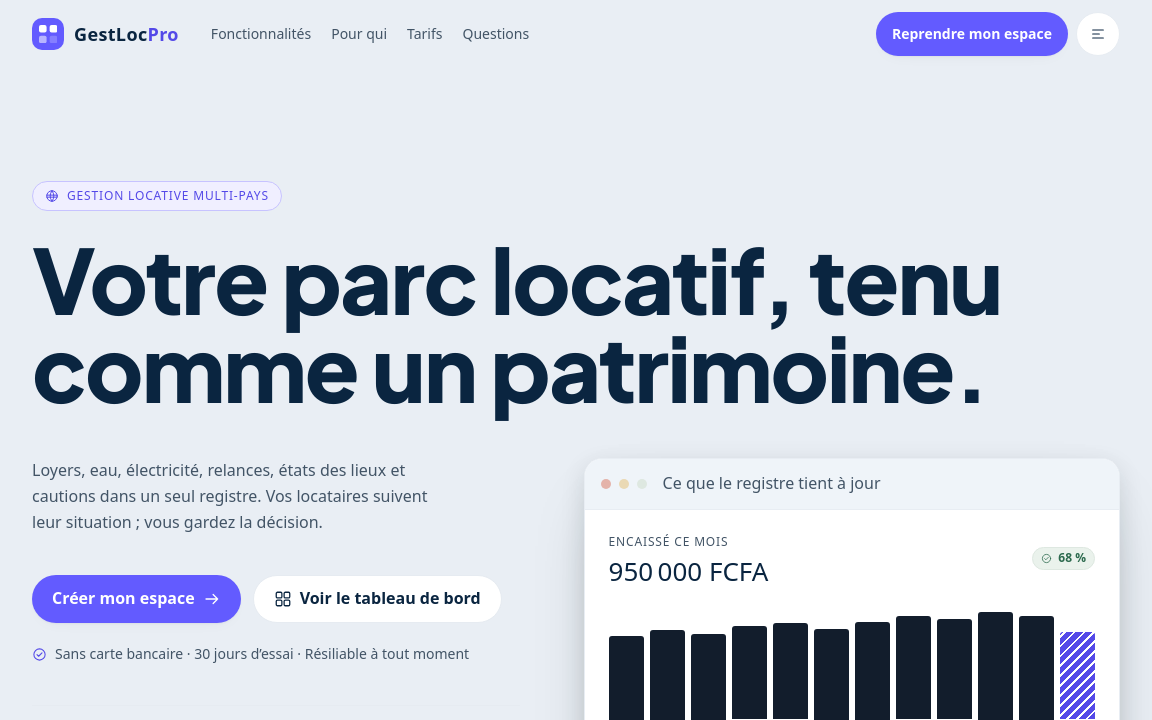
menu mobile de la vitrine › rend le focus au bouton d’ouverture à la fermeture
The image size is (1152, 720).
Click the button named "Ouvrir le menu" at (1098, 34), box [1076,12,1120,56]
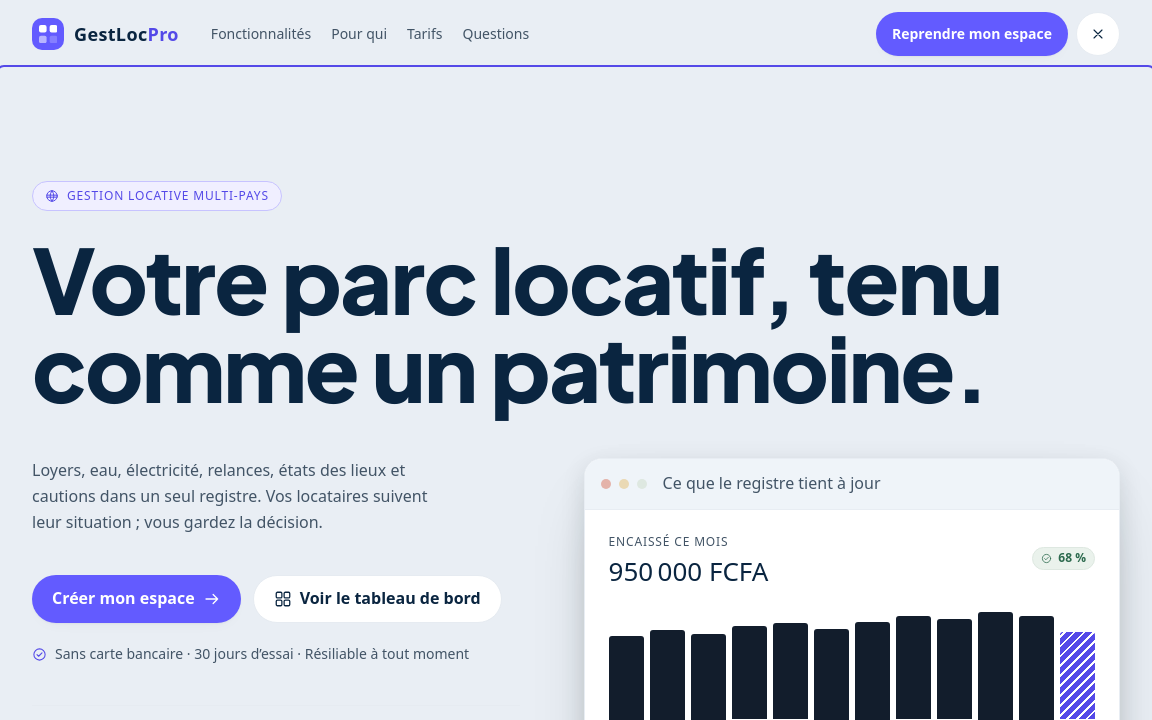
Press Tab
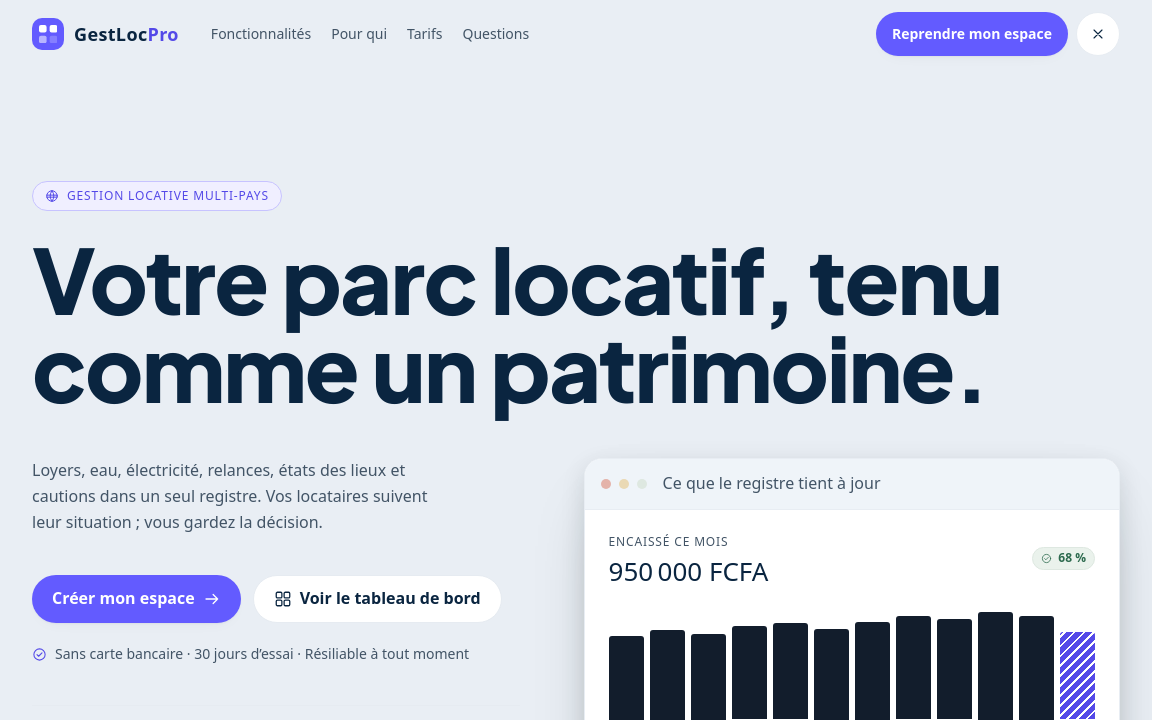
Press Escape
(page scrolled)
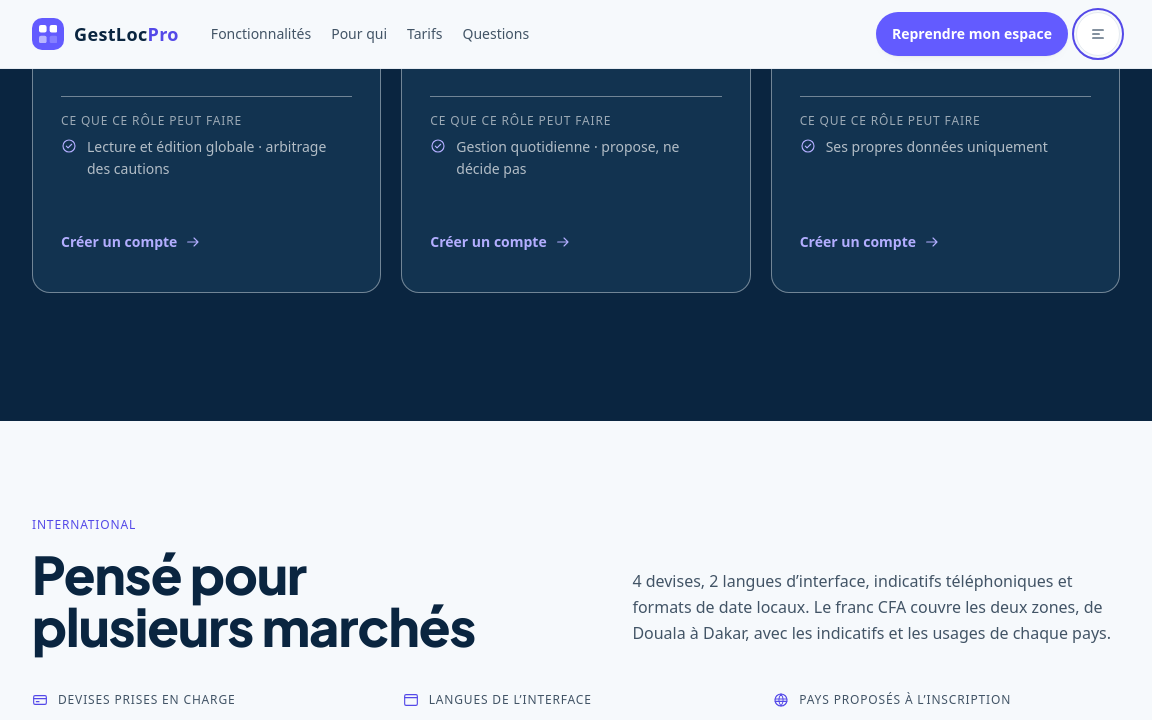
Check: the element with test id "menu-mobile" is gone
